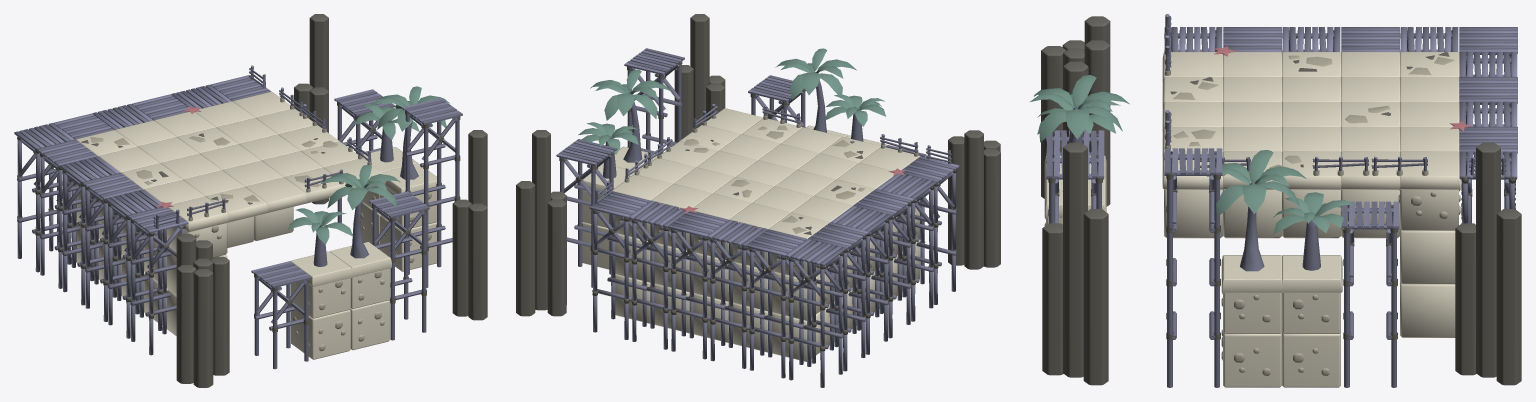
Rendered from StageGroundAssemble_A_SM_A_66.fbx.
The picture shows the model from 3 angles, left to right: view 1: azimuth 30°, elevation 25°; view 2: azimuth 150°, elevation 25°; view 3: azimuth 270°, elevation 25°; orthographic projection. The views are drawn at different scales.
Parts seen in each view (by area): view 1: stage_a_background_deco_sm_006, stage_a_background_deco_sm_004, stage_a_background_deco_sm_003, stage_a_background_deco_sm_005, stage_a_background_deco_sm_002, stage_a_background_deco_sm_003__1_, stage_a_background_deco_sm_001__1_, stage_a_background_deco_sm, stage_a_background_deco_sm_005__1_, stage_a_background_deco_sm_004__1_, stage_a_background_deco_sm_001, stage_a_block_cover_sm__2_ (+56 smaller); view 2: stage_a_background_deco_sm_005__1_, stage_a_background_deco_sm_006, stage_a_background_deco_sm_005, stage_a_background_deco_sm_001, stage_a_background_deco_sm_004__1_, stage_a_background_deco_sm_002, stage_a_background_deco_sm_003__1_, stage_a_background_deco_sm_003, stage_a_background_deco_sm_001__1_, stage_a_background_deco_sm_004, stage_a_block_base_sm_001__49_, stage_a_block_base_sm_002__10_ (+77 smaller); view 3: stage_a_background_deco_sm_005, stage_a_background_deco_sm_005__1_, stage_a_background_deco_sm_003__1_, stage_a_background_deco_sm_004__1_, stage_a_background_deco_sm_002, stage_a_background_deco_sm_006, stage_a_background_deco_sm_001, stage_a_background_deco_sm_003, stage_a_block_base_sm_001__40_, stage_a_block_base_sm_001__41_, stage_a_block_base_sm__20_, stage_a_block_cover_sm__20_ (+45 smaller).
Boxes of the visible parts, bbox=[...] form: stage_a_background_deco_sm_006: bbox=[176, 234, 229, 387]; stage_a_background_deco_sm_004: bbox=[287, 208, 353, 359]; stage_a_background_deco_sm_003: bbox=[320, 165, 400, 350]; stage_a_background_deco_sm_005: bbox=[452, 130, 487, 320]; stage_a_background_deco_sm_002: bbox=[402, 98, 462, 287]; stage_a_background_deco_sm_003__1_: bbox=[370, 86, 449, 271]; stage_a_background_deco_sm_001__1_: bbox=[369, 191, 429, 340]; stage_a_background_deco_sm: bbox=[251, 261, 311, 369]; stage_a_background_deco_sm_005__1_: bbox=[294, 14, 328, 204]; stage_a_background_deco_sm_004__1_: bbox=[354, 103, 419, 249]; stage_a_background_deco_sm_001: bbox=[334, 89, 394, 222]; stage_a_block_cover_sm__2_: bbox=[245, 177, 306, 212]; stage_a_background_deco_sm_005__1_: bbox=[516, 130, 566, 316]; stage_a_background_deco_sm_006: bbox=[948, 130, 1000, 269]; stage_a_background_deco_sm_005: bbox=[674, 14, 725, 142]; stage_a_background_deco_sm_001: bbox=[556, 139, 617, 287]; stage_a_background_deco_sm_004__1_: bbox=[578, 122, 638, 269]; stage_a_background_deco_sm_002: bbox=[624, 48, 684, 153]; stage_a_background_deco_sm_003__1_: bbox=[590, 69, 671, 170]; stage_a_background_deco_sm_003: bbox=[775, 48, 856, 137]; stage_a_background_deco_sm_001__1_: bbox=[748, 75, 805, 127]; stage_a_background_deco_sm_004: bbox=[824, 94, 886, 146]; stage_a_block_base_sm_001__49_: bbox=[772, 307, 829, 361]; stage_a_block_base_sm_002__10_: bbox=[788, 252, 843, 305]; stage_a_background_deco_sm_005: bbox=[1042, 142, 1108, 385]; stage_a_background_deco_sm_005__1_: bbox=[1455, 142, 1521, 385]; stage_a_background_deco_sm_003__1_: bbox=[1207, 150, 1306, 387]; stage_a_background_deco_sm_004__1_: bbox=[1273, 192, 1356, 387]; stage_a_background_deco_sm_002: bbox=[1164, 148, 1222, 387]; stage_a_background_deco_sm_006: bbox=[1041, 16, 1110, 206]; stage_a_background_deco_sm_001: bbox=[1341, 201, 1399, 387]; stage_a_background_deco_sm_003: bbox=[1030, 75, 1129, 225]; stage_a_block_base_sm_001__40_: bbox=[1400, 229, 1455, 284]; stage_a_block_base_sm_001__41_: bbox=[1400, 282, 1455, 337]; stage_a_block_base_sm__20_: bbox=[1398, 188, 1460, 230]; stage_a_block_cover_sm__20_: bbox=[1400, 151, 1460, 189].
Bounding box in the file's own units: 3477 × 1720 × 3340.
2 materials, 2 textured.
